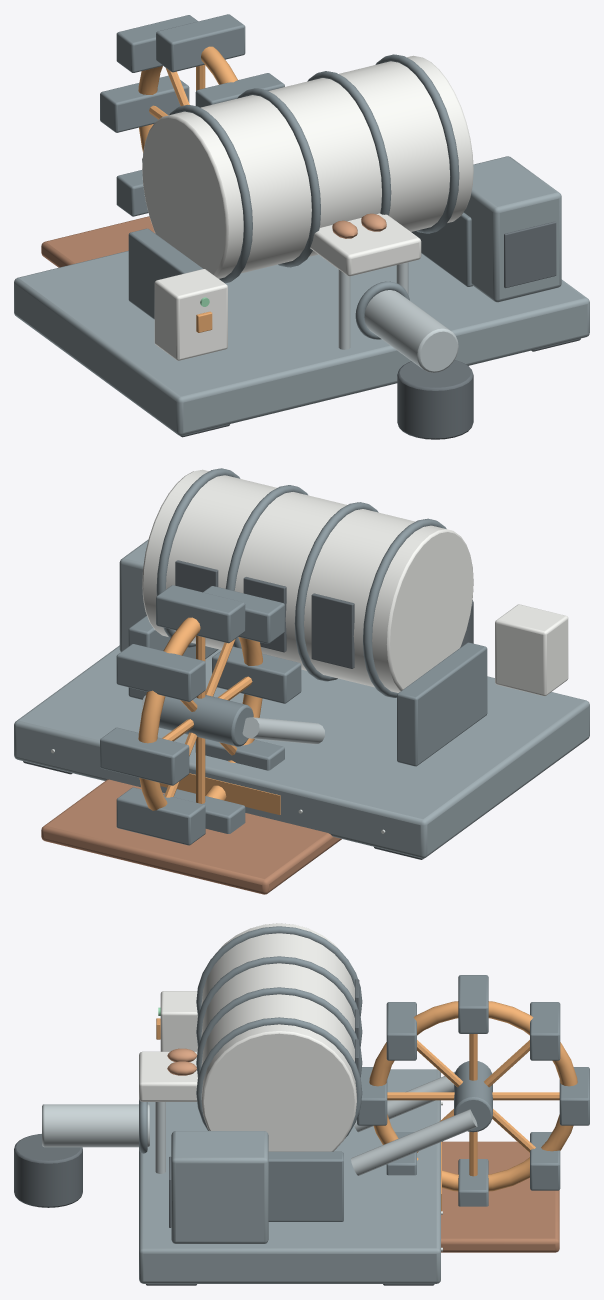
File: regolith_intake.glb
3 views of the same model, one above another, from view 1: azimuth 30°, elevation 25°; view 2: azimuth 150°, elevation 25°; view 3: azimuth 270°, elevation 25° (orthographic). The views are drawn at different scales.
Visible parts, largest first — view 1: skid_slate_panel, sieve_drum_white_painted, scoop_wheel_orange, motor_housing_slate_panel, sieve_drum_hoops_dark_alloy, drum_cradles_dark_alloy, switch_box_white_painted, feed_pipe_ground_collar_graphite, feed_pipe_alloy, conveyor_cover_white_painted, motor_vent_dark_alloy, trench_regolith_dark (+3 smaller); view 2: skid_slate_panel, sieve_drum_white_painted, scoop_wheel_orange, trench_regolith_dark, drum_cradles_dark_alloy, sieve_drum_hoops_dark_alloy, switch_box_white_painted, sieve_mesh_graphite, scoop_hub_dark_alloy, motor_housing_slate_panel, scoop_arms_alloy, intake_label_orange; view 3: skid_slate_panel, sieve_drum_white_painted, scoop_wheel_orange, motor_housing_slate_panel, trench_regolith_dark, sieve_drum_hoops_dark_alloy, drum_cradles_dark_alloy, feed_pipe_alloy, feed_pipe_ground_collar_graphite, scoop_arms_alloy, conveyor_cover_white_painted, switch_box_white_painted (+3 smaller).
Boxes of the visible parts, x1=… form: skid_slate_panel: x1=14, y1=250, x2=589, y2=435; sieve_drum_white_painted: x1=142, y1=55, x2=473, y2=278; scoop_wheel_orange: x1=100, y1=14, x2=284, y2=216; motor_housing_slate_panel: x1=463, y1=156, x2=561, y2=302; sieve_drum_hoops_dark_alloy: x1=169, y1=54, x2=459, y2=283; drum_cradles_dark_alloy: x1=128, y1=212, x2=472, y2=319; switch_box_white_painted: x1=154, y1=269, x2=227, y2=360; feed_pipe_ground_collar_graphite: x1=397, y1=360, x2=473, y2=439; feed_pipe_alloy: x1=364, y1=290, x2=458, y2=372; conveyor_cover_white_painted: x1=310, y1=213, x2=421, y2=276; motor_vent_dark_alloy: x1=504, y1=221, x2=556, y2=288; trench_regolith_dark: x1=41, y1=216, x2=155, y2=267; skid_slate_panel: x1=14, y1=645, x2=589, y2=858; sieve_drum_white_painted: x1=142, y1=469, x2=473, y2=692; scoop_wheel_orange: x1=100, y1=585, x2=301, y2=845; trench_regolith_dark: x1=41, y1=779, x2=341, y2=894; drum_cradles_dark_alloy: x1=128, y1=615, x2=487, y2=766; sieve_drum_hoops_dark_alloy: x1=156, y1=468, x2=446, y2=697; switch_box_white_painted: x1=495, y1=604, x2=568, y2=696; sieve_mesh_graphite: x1=175, y1=560, x2=354, y2=668; scoop_hub_dark_alloy: x1=159, y1=695, x2=253, y2=746; motor_housing_slate_panel: x1=119, y1=539, x2=148, y2=651; scoop_arms_alloy: x1=142, y1=695, x2=324, y2=744; intake_label_orange: x1=159, y1=773, x2=280, y2=814; skid_slate_panel: x1=139, y1=1069, x2=440, y2=1283; sieve_drum_white_painted: x1=201, y1=923, x2=356, y2=1151; scoop_wheel_orange: x1=357, y1=975, x2=589, y2=1206; motor_housing_slate_panel: x1=171, y1=1131, x2=268, y2=1243; trench_regolith_dark: x1=441, y1=1141, x2=559, y2=1252; sieve_drum_hoops_dark_alloy: x1=196, y1=926, x2=362, y2=1138; drum_cradles_dark_alloy: x1=268, y1=1151, x2=343, y2=1221; feed_pipe_alloy: x1=42, y1=1104, x2=149, y2=1147; feed_pipe_ground_collar_graphite: x1=14, y1=1134, x2=82, y2=1207; scoop_arms_alloy: x1=351, y1=1071, x2=477, y2=1175; conveyor_cover_white_painted: x1=139, y1=1051, x2=197, y2=1101; switch_box_white_painted: x1=160, y1=991, x2=197, y2=1051.
Size of the model in its own units: 2 by 1.18 by 2.67.
